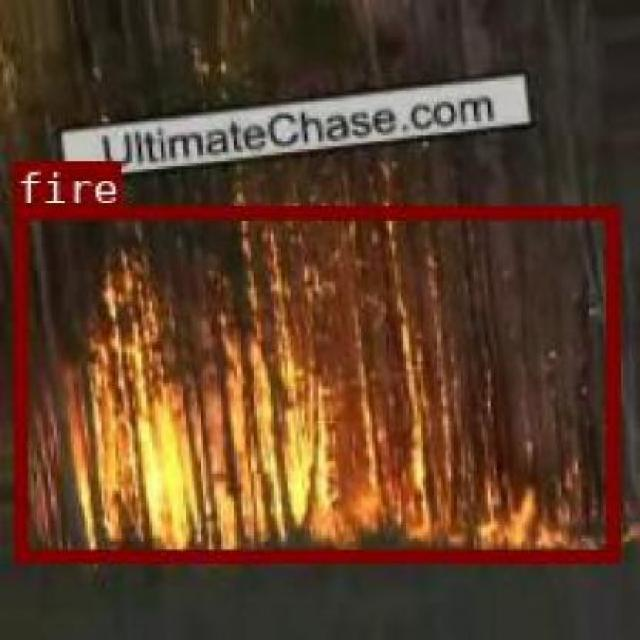fire: (13, 204, 616, 558)
